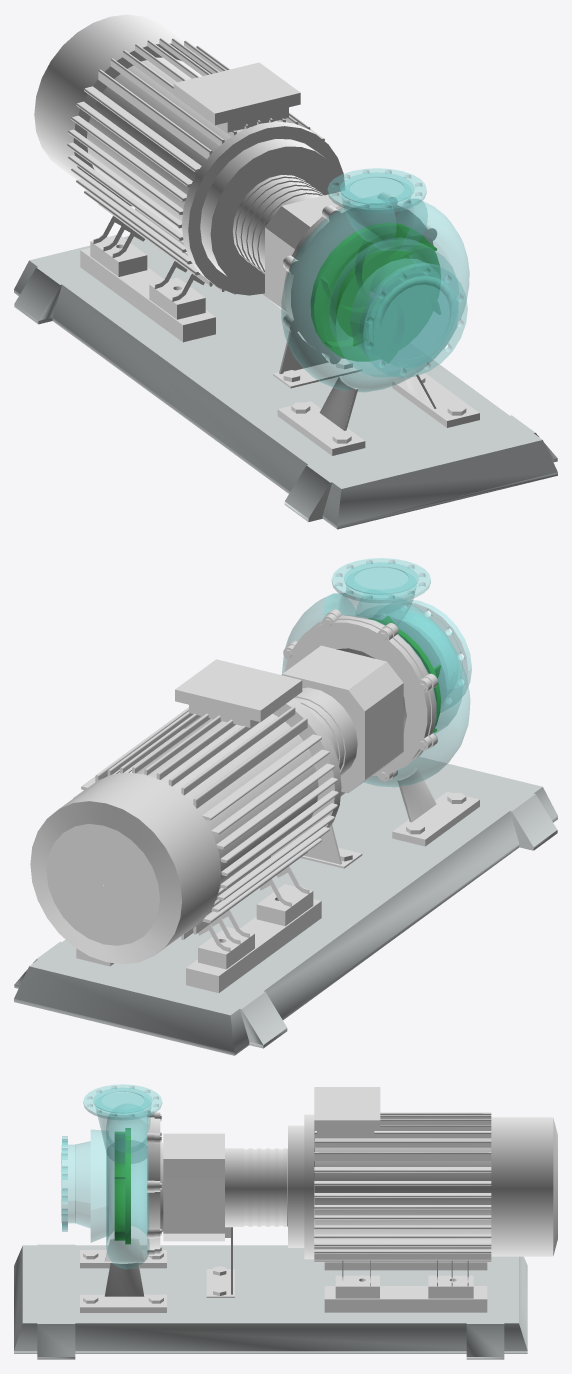
The model's file is 冷却泵.glb.
The picture shows the model from 3 angles, top to bottom: view 1: azimuth 30°, elevation 25°; view 2: azimuth 150°, elevation 25°; view 3: azimuth 270°, elevation 25°; orthographic projection. The views are drawn at different scales.
Parts seen in each view (by area): view 1: 主体, 基础, 透明外壳, 叶轮; view 2: 主体, 基础, 透明外壳, 叶轮; view 3: 主体, 基础, 透明外壳, 叶轮.
Boxes of the visible parts, x1=… form: 主体: x1=34, y1=14, x2=479, y2=455; 基础: x1=14, y1=236, x2=557, y2=529; 透明外壳: x1=281, y1=168, x2=469, y2=391; 叶轮: x1=310, y1=223, x2=440, y2=363; 主体: x1=30, y1=609, x2=479, y2=992; 基础: x1=14, y1=756, x2=557, y2=1055; 透明外壳: x1=282, y1=558, x2=471, y2=786; 叶轮: x1=368, y1=616, x2=440, y2=732; 主体: x1=80, y1=1087, x2=557, y2=1312; 基础: x1=14, y1=1244, x2=527, y2=1359; 透明外壳: x1=61, y1=1084, x2=161, y2=1268; 叶轮: x1=114, y1=1128, x2=130, y2=1244.
Bounding box in the file's own units: 46.21 × 46.95 × 110.
